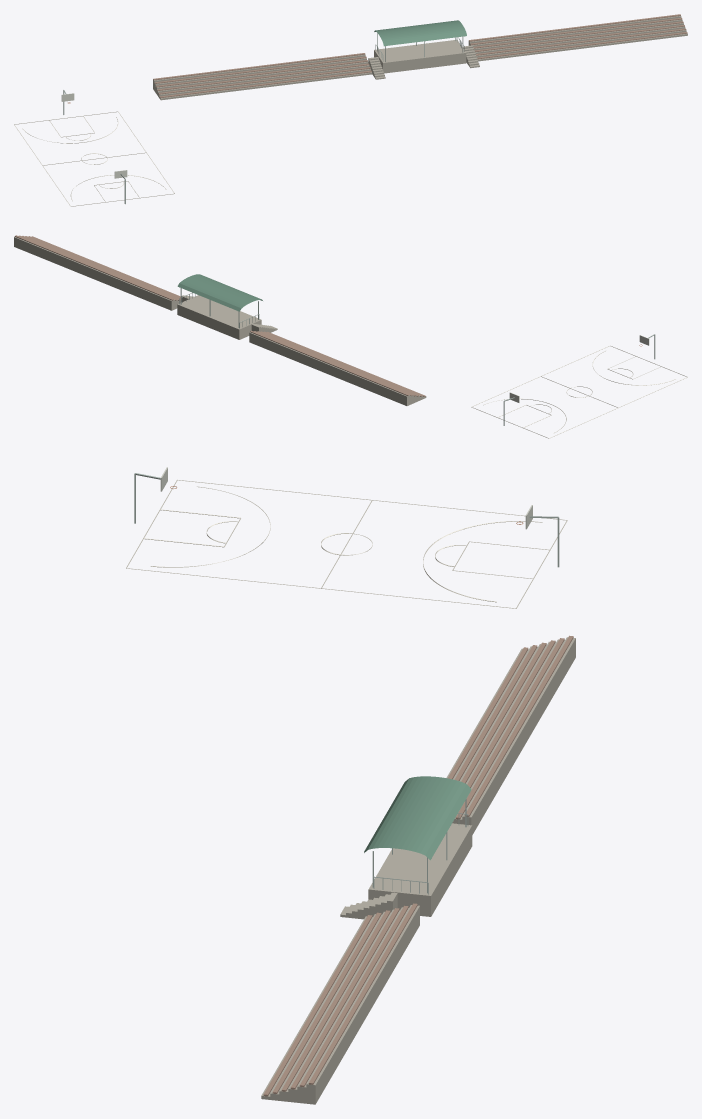
3 renders of one model, top to bottom at view 1: azimuth 30°, elevation 25°; view 2: azimuth 150°, elevation 25°; view 3: azimuth 270°, elevation 25°, orthographic. The views are drawn at different scales.
Parts seen in each view (by area): view 1: spectator-terraces, covered-dais-platform, covered-dais-open-canopy, basketball-court-lines, basketball-hoops; view 2: spectator-terraces, covered-dais-platform, covered-dais-open-canopy, basketball-court-lines; view 3: spectator-terraces, covered-dais-open-canopy, covered-dais-platform, basketball-court-lines.
Boxes of the visible parts, x1=… form: spectator-terraces: x1=153, y1=14, x2=687, y2=100; covered-dais-platform: x1=374, y1=37, x2=466, y2=73; covered-dais-open-canopy: x1=374, y1=20, x2=466, y2=61; basketball-court-lines: x1=14, y1=111, x2=174, y2=206; basketball-hoops: x1=61, y1=90, x2=127, y2=204; spectator-terraces: x1=14, y1=235, x2=426, y2=405; covered-dais-platform: x1=177, y1=292, x2=261, y2=339; covered-dais-open-canopy: x1=177, y1=274, x2=262, y2=327; basketball-court-lines: x1=471, y1=345, x2=687, y2=438; spectator-terraces: x1=261, y1=635, x2=575, y2=1104; covered-dais-open-canopy: x1=364, y1=776, x2=471, y2=893; covered-dais-platform: x1=368, y1=813, x2=472, y2=916; basketball-court-lines: x1=126, y1=479, x2=567, y2=608.
Size of the model in its own units: 103 by 5.07 by 31.38.
